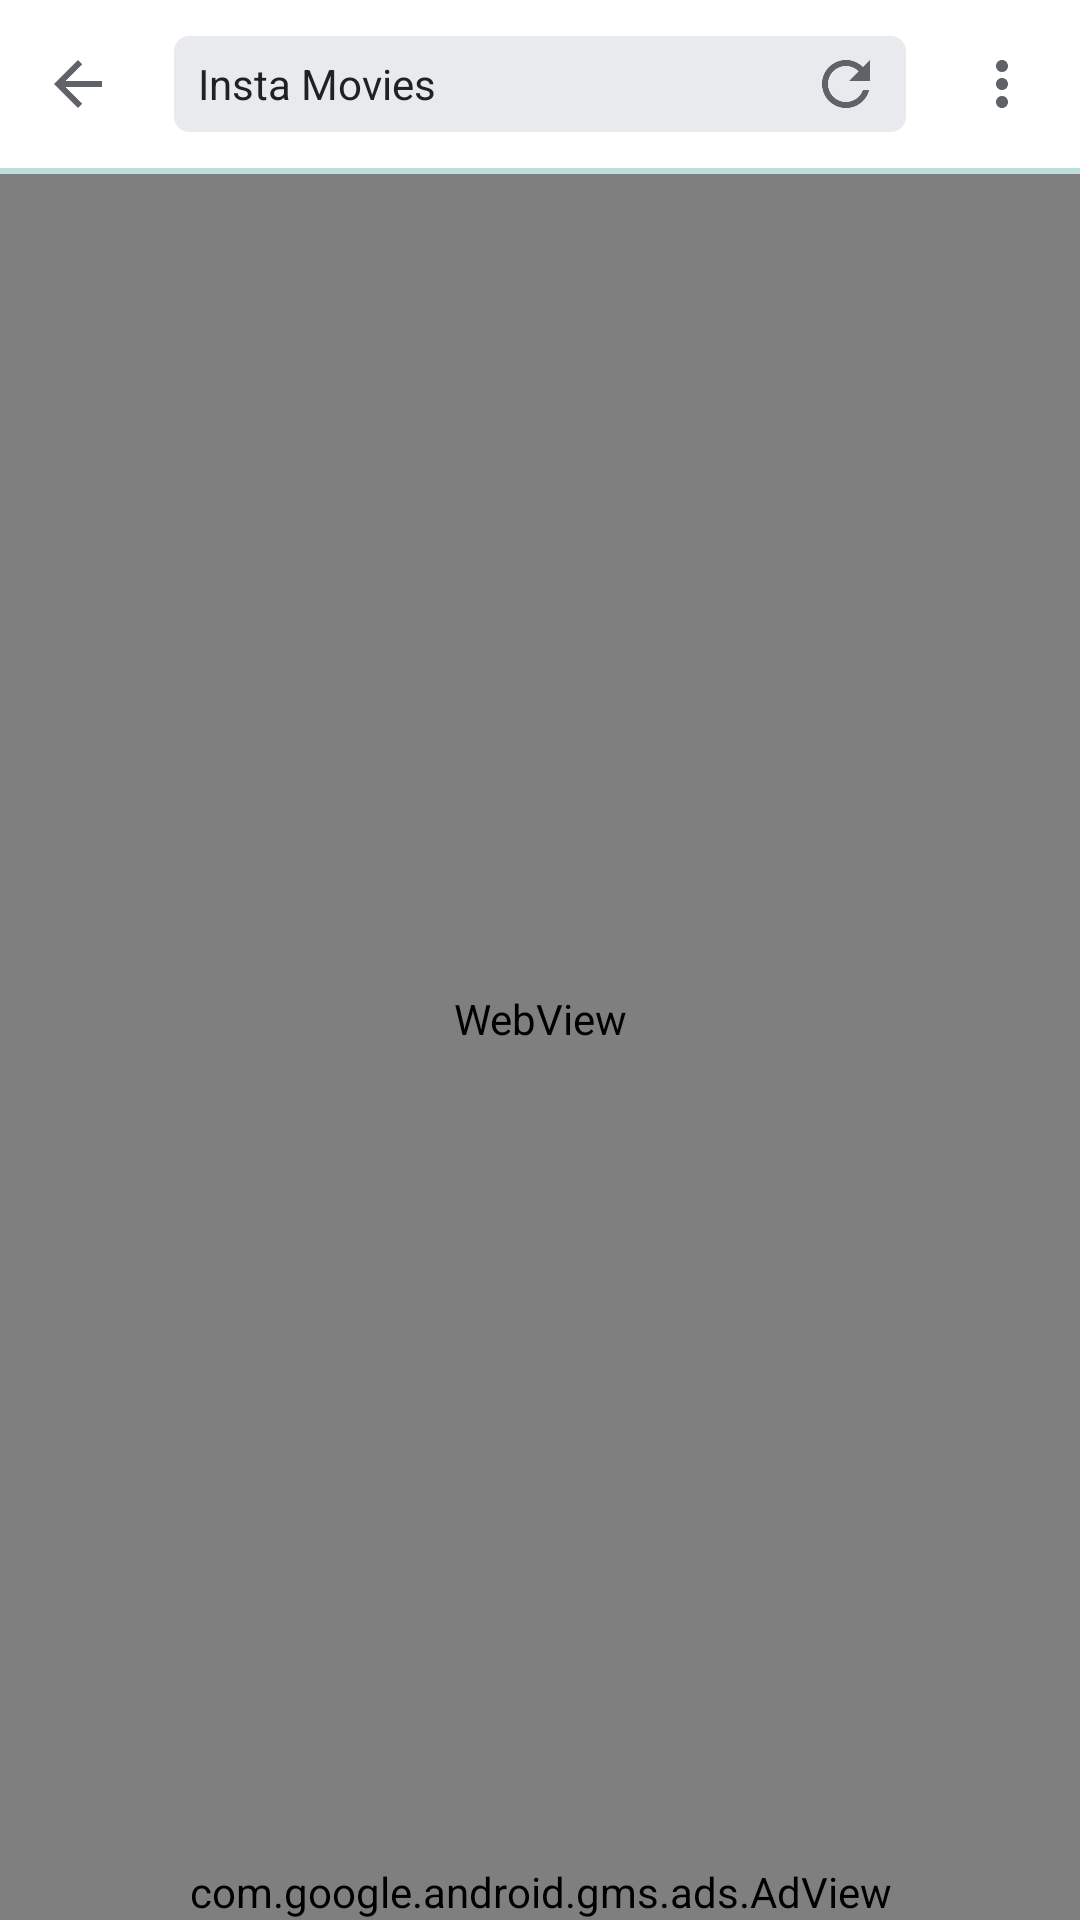

Named icons in this screenshot (1080px×1920px) and their bounding boxes, (x1, y1, x2, y2):
arrow back toolbar: (54, 60, 102, 108)
more vert toolbar: (996, 60, 1008, 108)
refresh toolbar: (822, 60, 870, 108)
